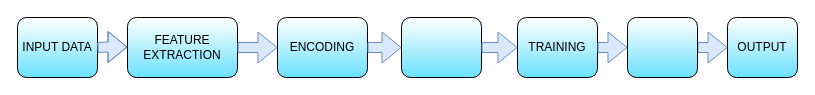
The diagram is 815 pixels wide and 95 high, and some of its shapes have lost their labels. The shapes that lost their labels are listed below. From the top down, each one's centre as x and y in pixels, then its label:
At pixel 441 47: "QUANTUM CIRCUIT".
At pixel 662 47: "TESTING".
